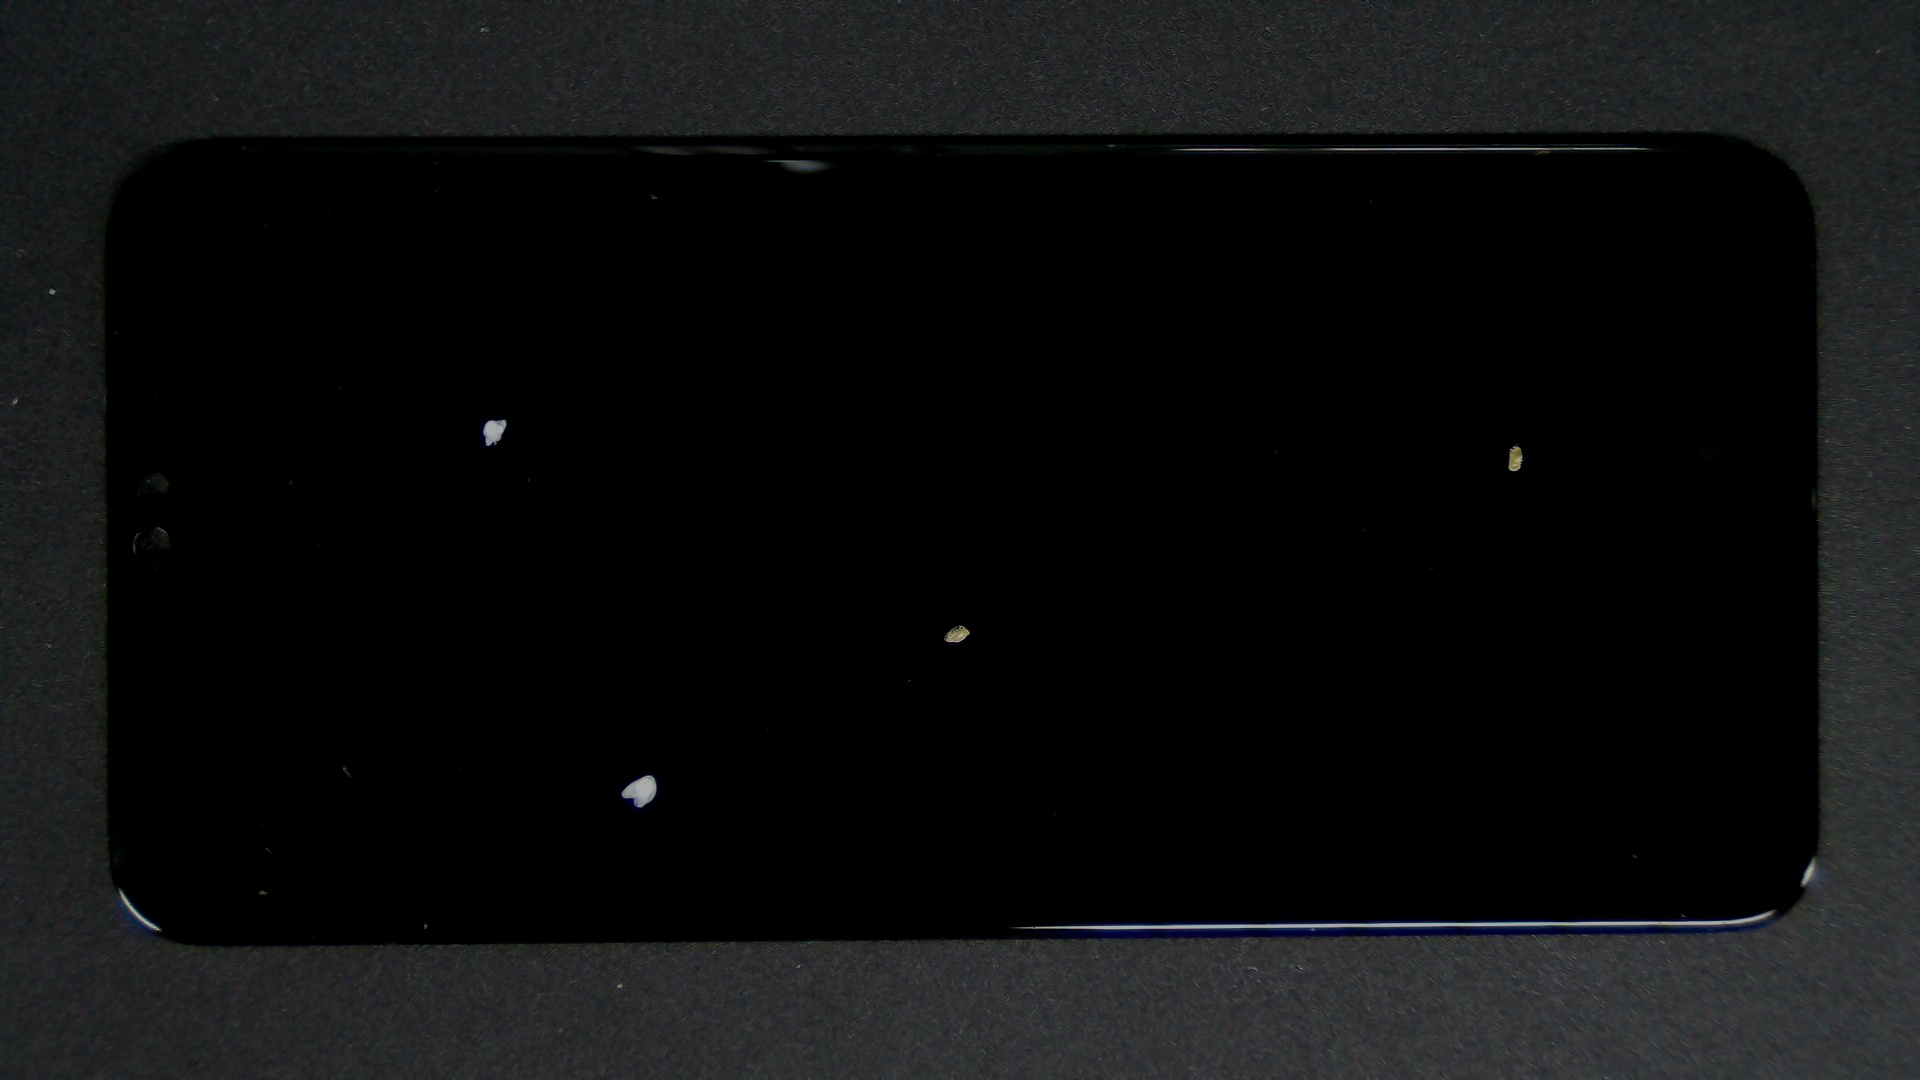oil: (480, 311, 1440, 935), (760, 222, 1920, 665), (324, 386, 972, 1080), (249, 208, 745, 628)
